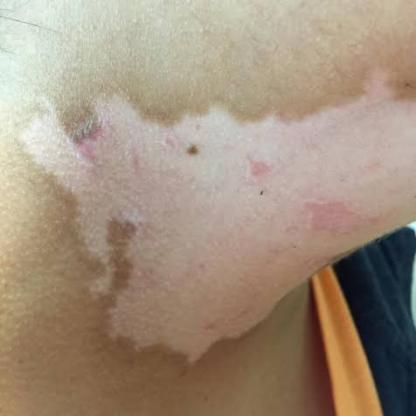Hansen-s Disease-Leprosy: (19, 68, 294, 387), (253, 27, 416, 241)
